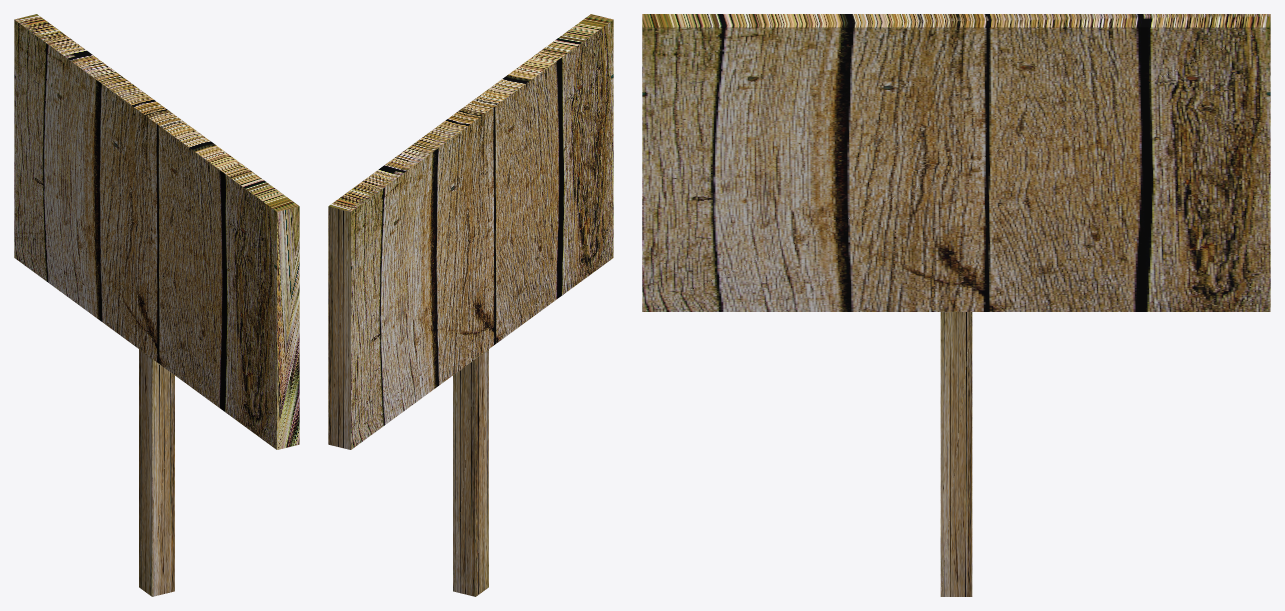
The model's file is Sign.dae.
3 views of the same model, side by side, from view 1: azimuth 30°, elevation 25°; view 2: azimuth 150°, elevation 25°; view 3: azimuth 270°, elevation 25° (orthographic). The views are drawn at different scales.
Visible parts, largest first — view 1: Cube.001, Cube; view 2: Cube.001, Cube; view 3: Cube.001, Cube.
Boxes of the visible parts, <box> form: Cube.001: <box>14,14,299,449</box>; Cube: <box>139,349,174,596</box>; Cube.001: <box>328,14,613,449</box>; Cube: <box>453,349,488,596</box>; Cube.001: <box>642,14,1270,311</box>; Cube: <box>940,312,972,596</box>.
Bounding box in the file's own units: 0.2 × 4 × 4.
2 materials, 2 textured.
